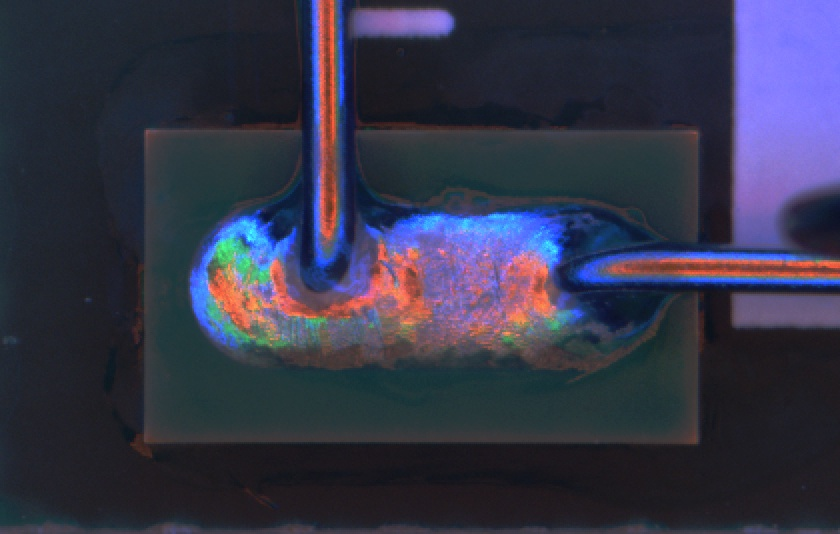spring: (543, 238, 840, 305), (301, 1, 361, 292)
spring_pin: (193, 193, 654, 358)
